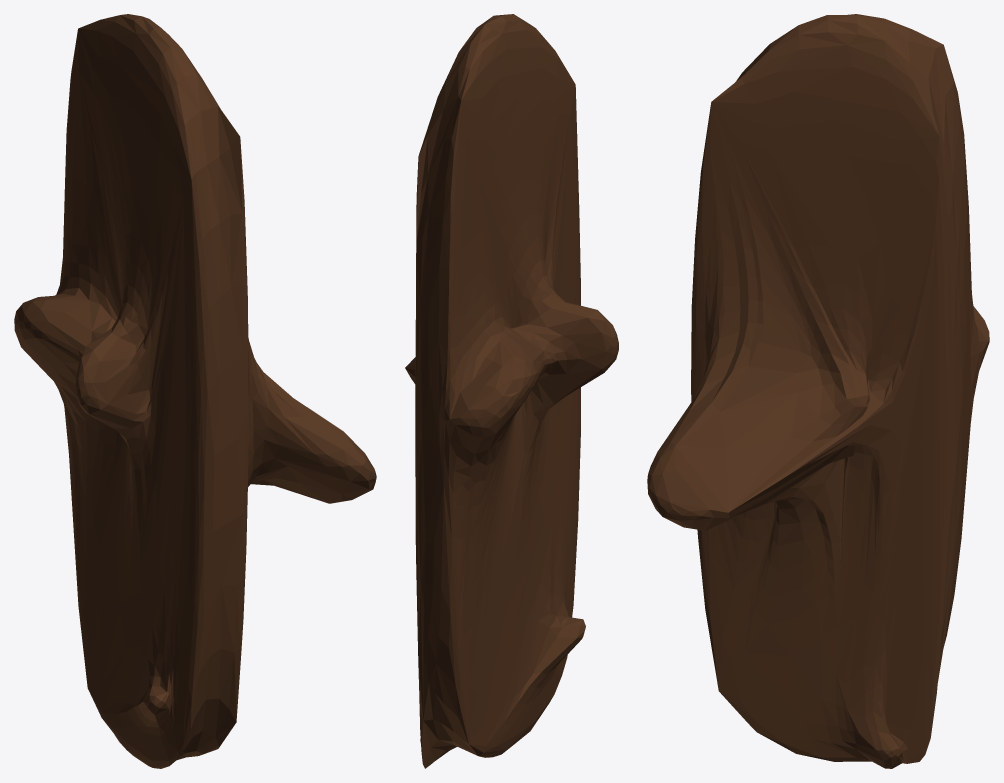
3 views of the same model, side by side, from view 1: azimuth 30°, elevation 25°; view 2: azimuth 150°, elevation 25°; view 3: azimuth 270°, elevation 25° (orthographic).
Parts seen in each view (by area): view 1: 069_Cube.282; view 2: 069_Cube.282; view 3: 069_Cube.282.
Boxes of the visible parts, x1,y1,x2,y2 form: 069_Cube.282: (14, 14, 376, 768); 069_Cube.282: (405, 14, 618, 768); 069_Cube.282: (647, 14, 989, 768).
Size of the model in its own units: 3.95 by 11.36 by 4.79.
